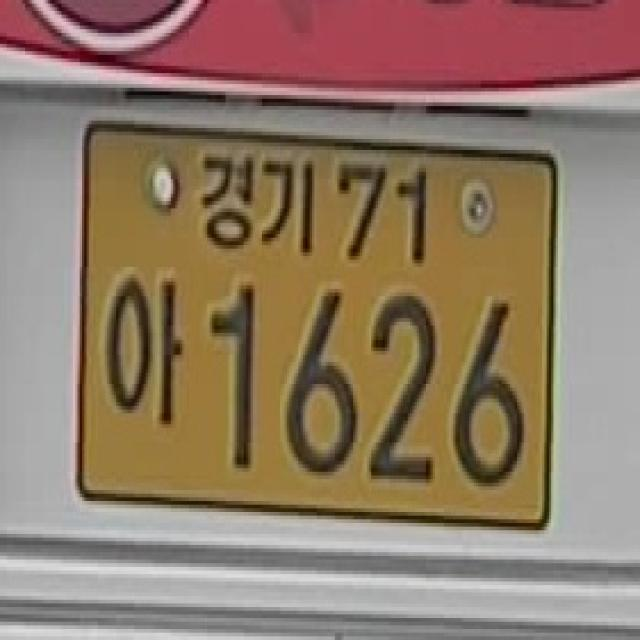plat: (76, 120, 559, 528)
